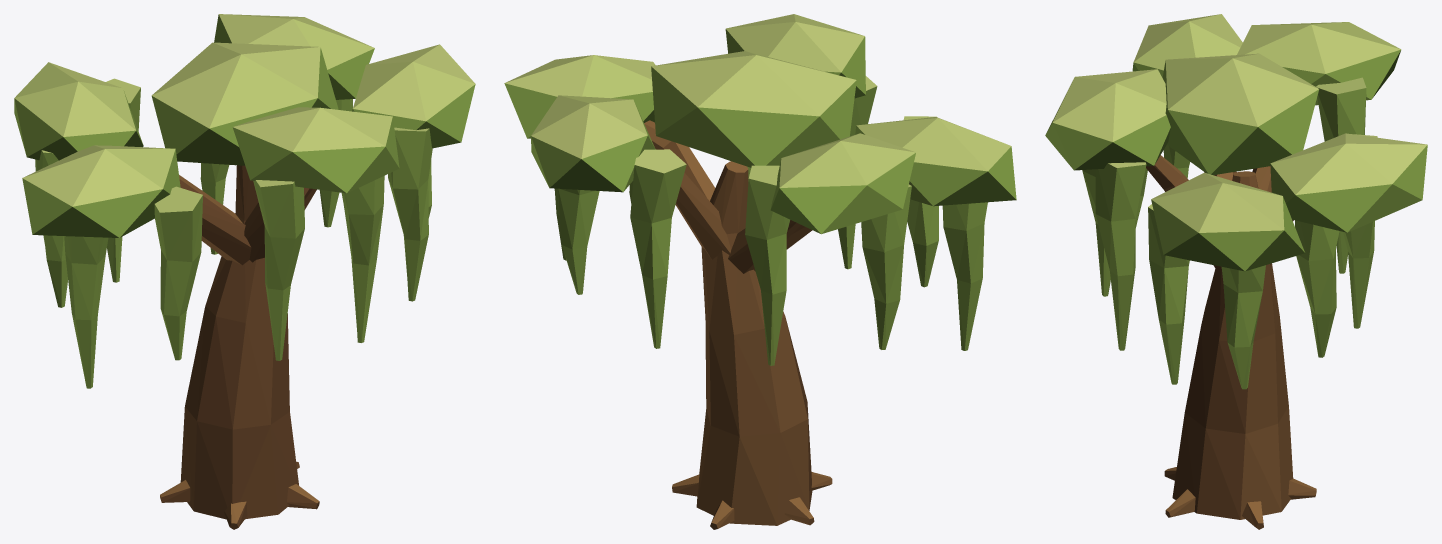
The picture shows the model from 3 angles, left to right: view 1: azimuth 30°, elevation 25°; view 2: azimuth 150°, elevation 25°; view 3: azimuth 270°, elevation 25°; orthographic projection.
Parts seen in each view (by area): view 1: WK_Tree_Willow_LemonWeeping_LOD0_High; view 2: WK_Tree_Willow_LemonWeeping_LOD0_High; view 3: WK_Tree_Willow_LemonWeeping_LOD0_High.
Part boxes in pixels (x1,y1,x2,y2): WK_Tree_Willow_LemonWeeping_LOD0_High: (14, 14, 475, 529); WK_Tree_Willow_LemonWeeping_LOD0_High: (504, 14, 1016, 529); WK_Tree_Willow_LemonWeeping_LOD0_High: (1045, 14, 1427, 529).
Size of the model in its own units: 5.65 by 5.21 by 4.07.
